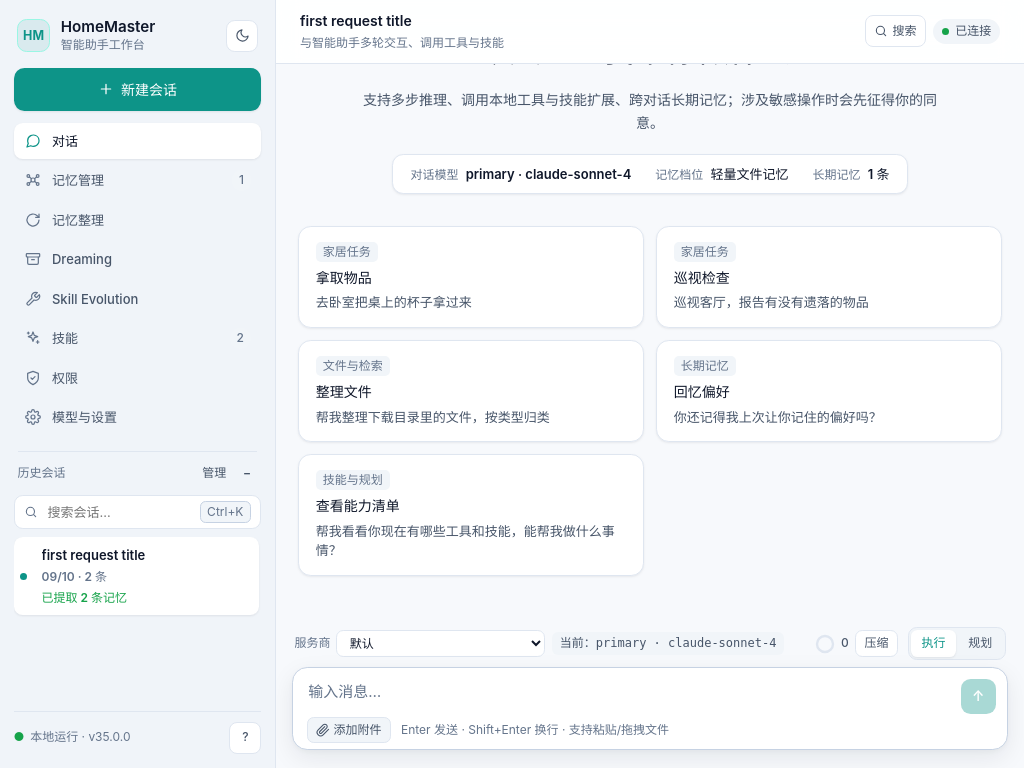
it: App memory navigation › filters the session list through the search box
(page scrolled)
Expected: the button with aria-label "打开会话 first request title" is shown, [31,537,259,615]
Type "zzz-no-match" into the search field named "搜索会话".
click(119, 512); type("zzz-no-match")  # box [45,496,193,528]
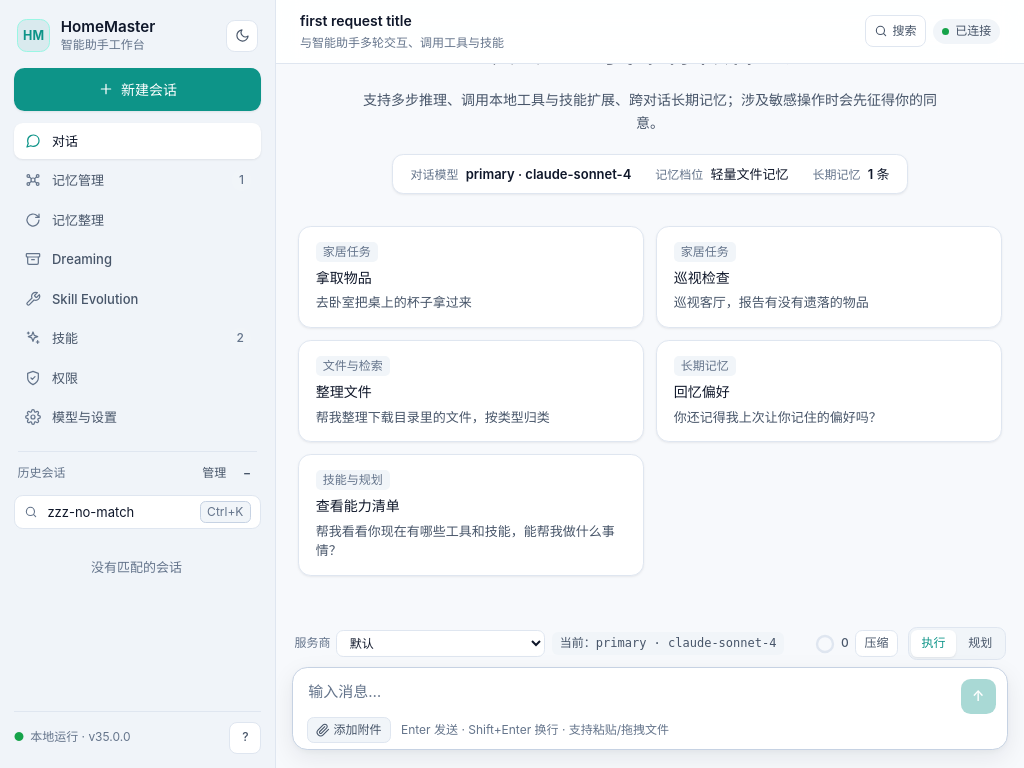
Expected: the text "没有匹配的会话" is shown, [91,559,182,575]
Replace the text in the search field named "搜索会话" with "first request" at (119, 512), box [45,496,193,528]
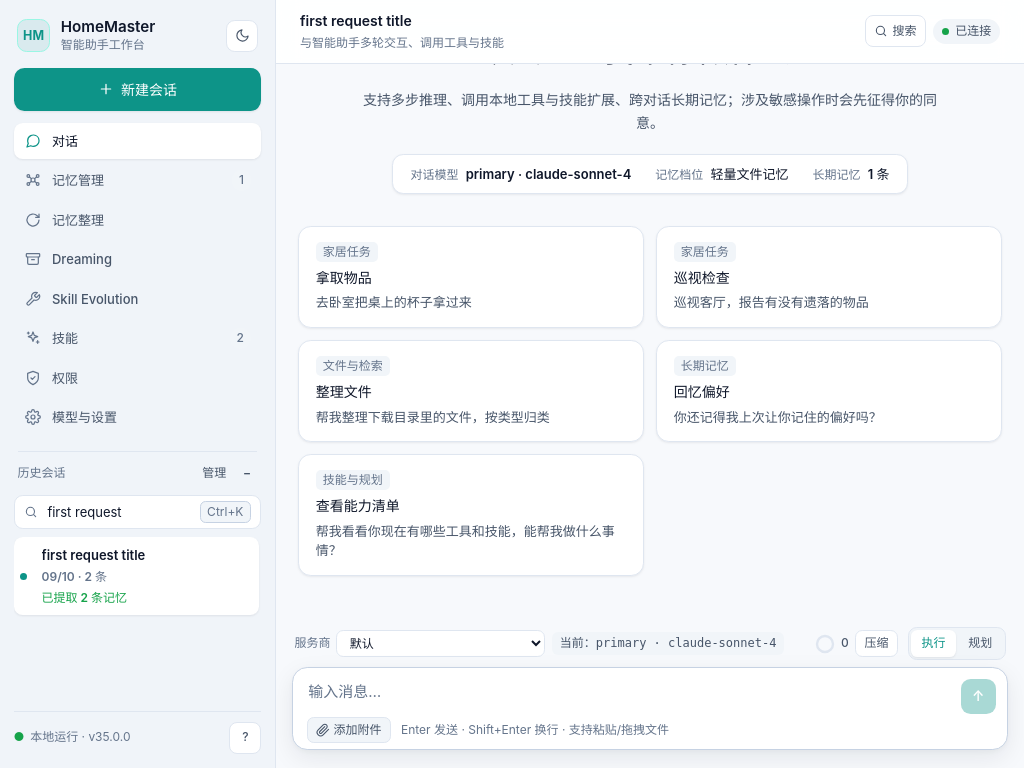
Expected: the button with aria-label "打开会话 first request title" is shown, [31,537,259,615]
